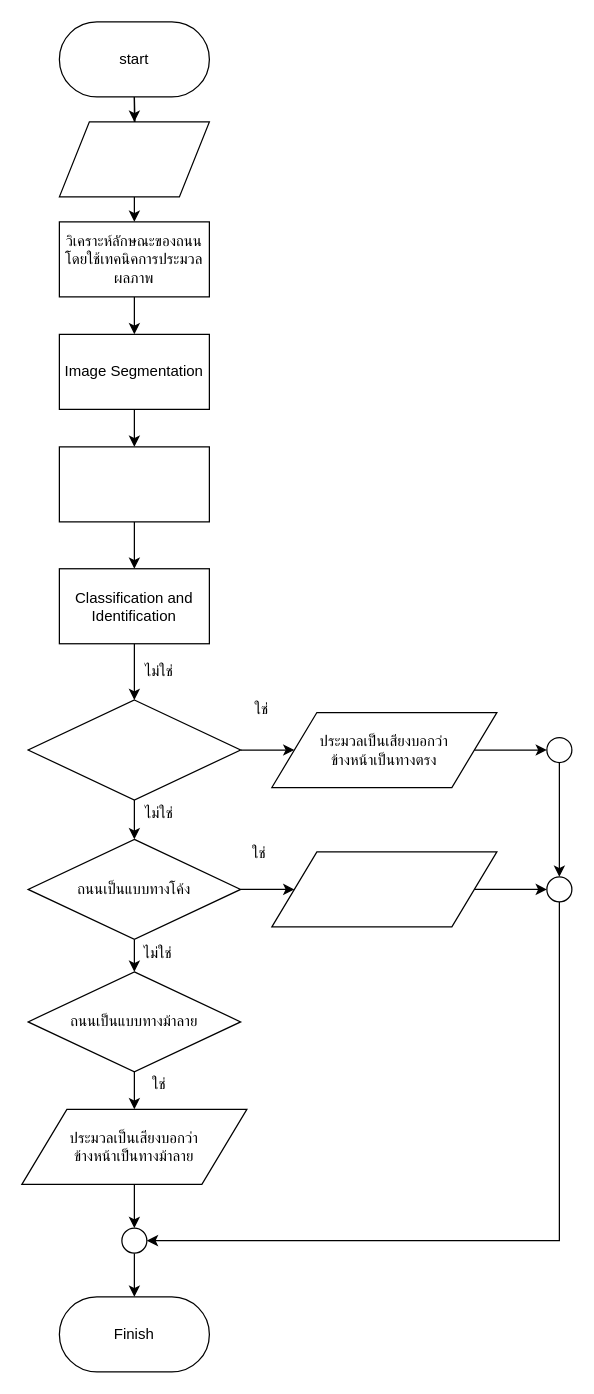
Image size: 594x1394. Some labels were removed from this diagram. The centre of each missing label's shape, as x and y in pixels:
Feature Extraction: point (133, 484)
ถนนเป็นแบบทางตรง: point (134, 749)
ประมวลเป็นเสียงบอกว่า ข้างหน้าเป็นทางโค้ง: point (384, 889)
รับภาพถนน: point (133, 159)
